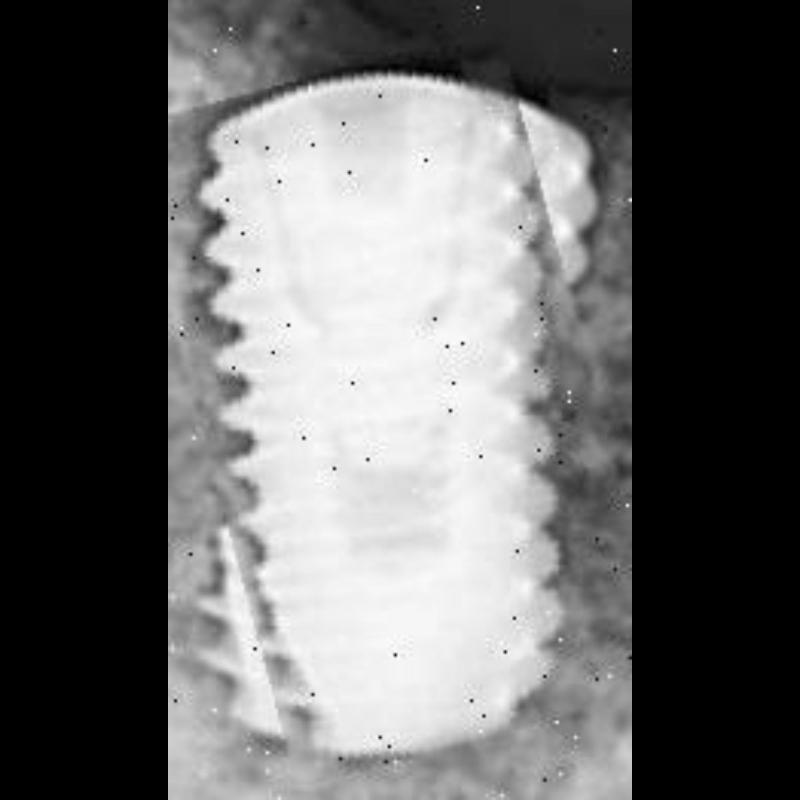osstem: (168, 46, 632, 766)
